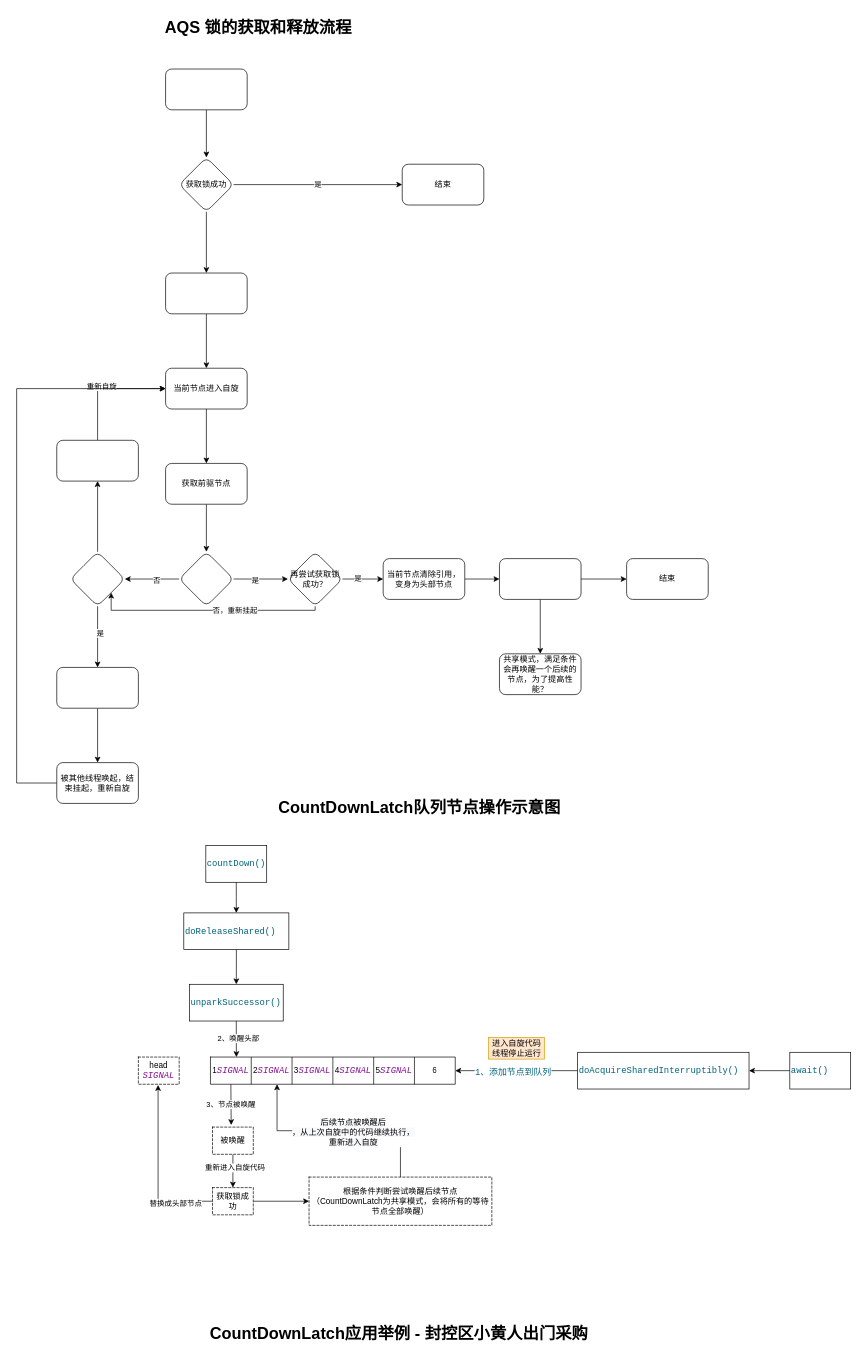
This 863x1361 diagram has some shape labels left out. Each missing label, with the box of its shape:
判断是否需要再唤起下一个节点: (499, 558, 581, 599)
前驱节点为头部节点？: (178, 551, 234, 606)
前驱节点状态为 SIGNAL ？: (70, 551, 125, 606)
前驱设置为 SIGNAL: (56, 440, 138, 481)
挂起当前线程: (56, 667, 138, 708)
添加节点到队尾（cas）: (165, 272, 247, 314)
获取锁开始: (165, 68, 247, 110)
